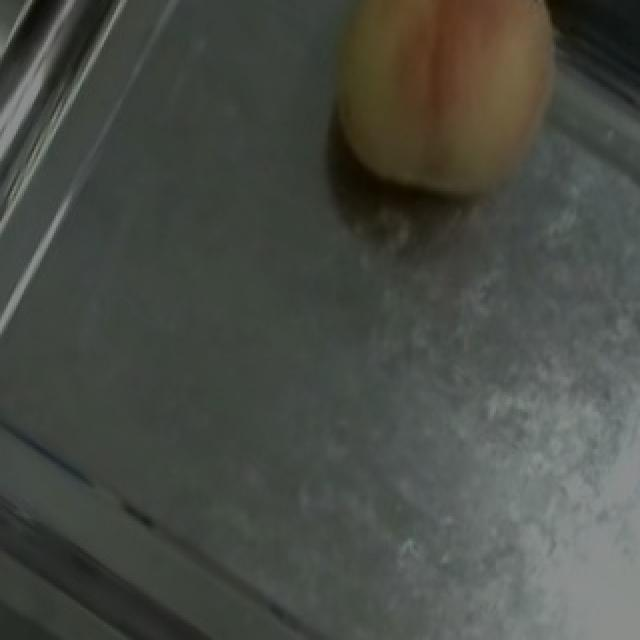Fruit: (282, 0, 588, 236)
